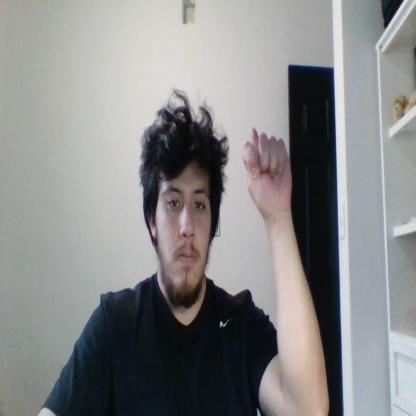T: (244, 127, 294, 211)
